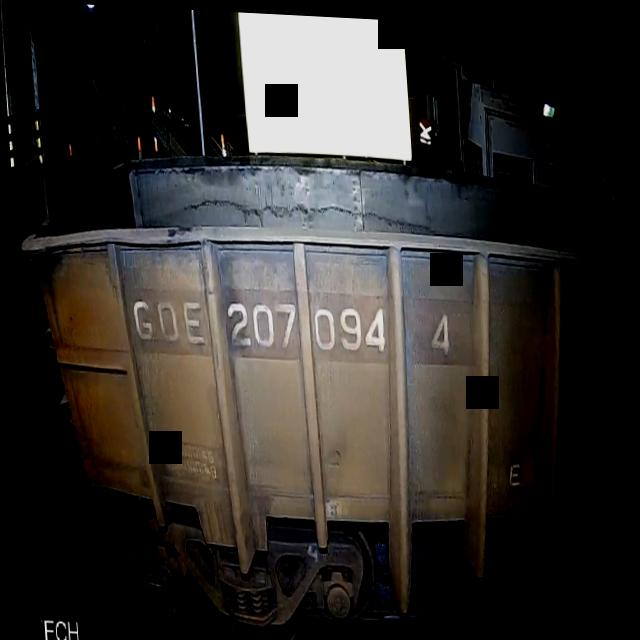gondola: (6, 123, 640, 640)
